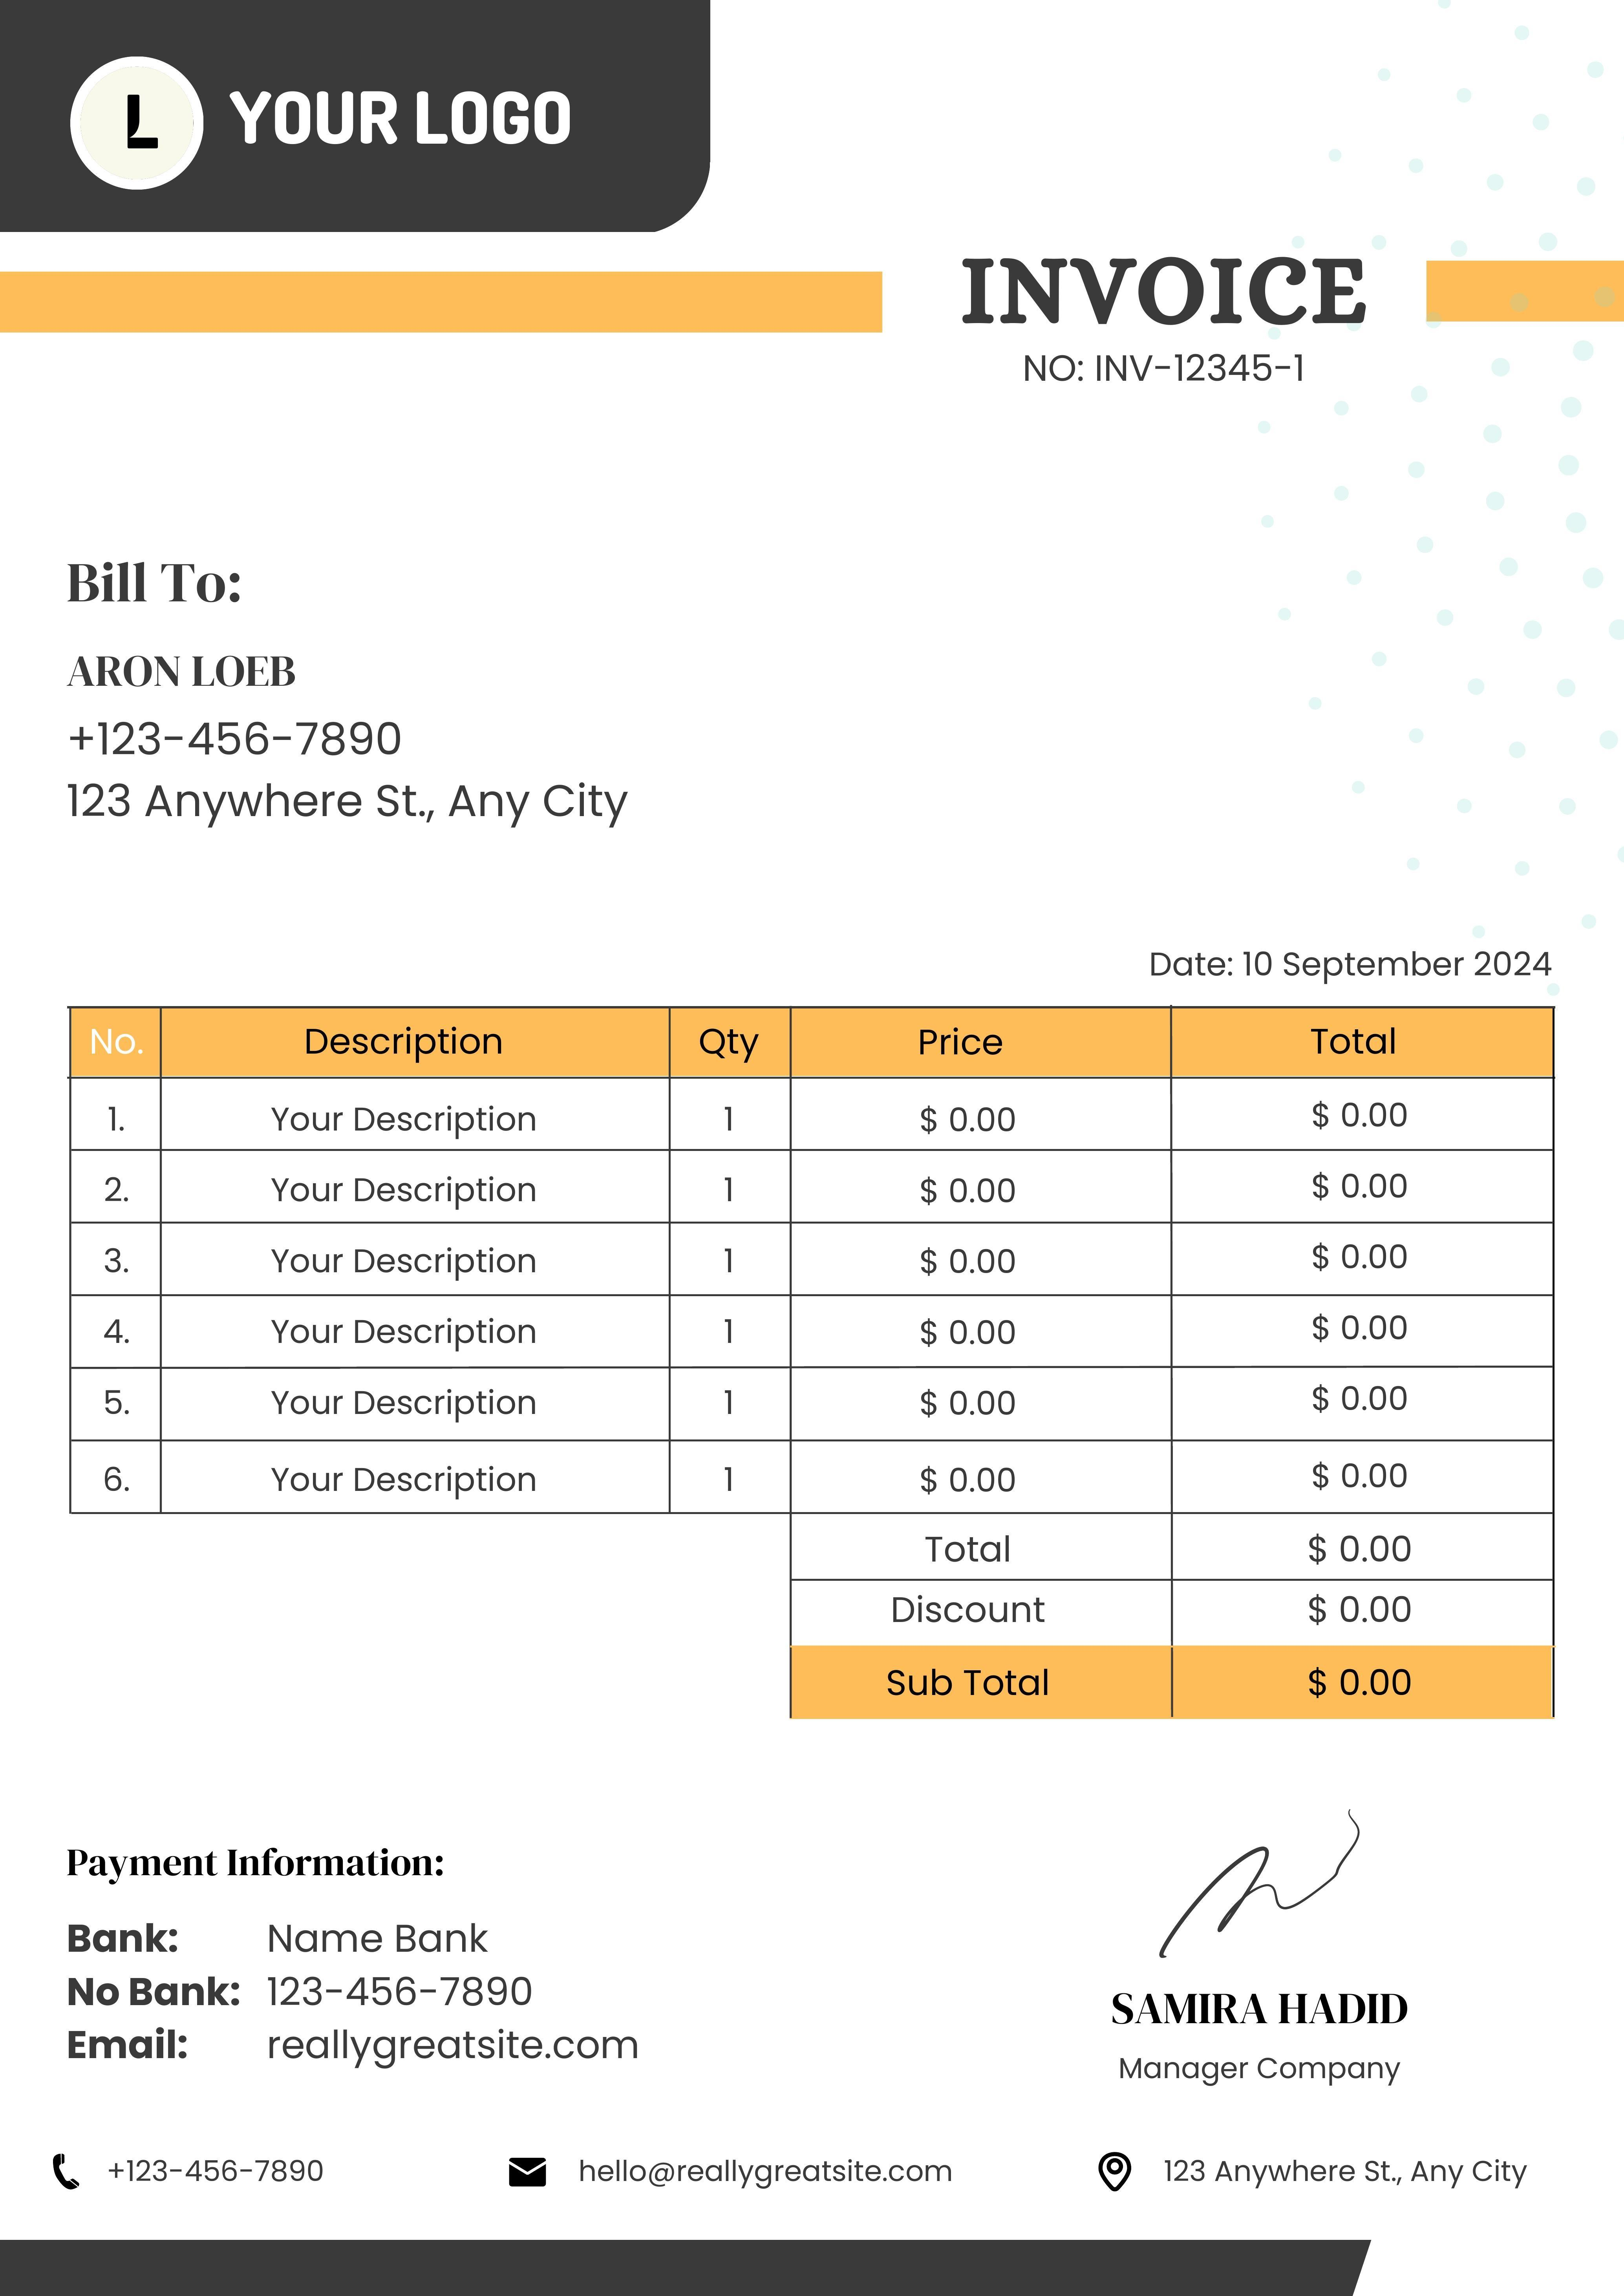ROI: (68, 1000, 1551, 1509), (55, 542, 692, 841), (53, 1834, 677, 2089), (786, 1517, 1557, 1721), (1090, 1969, 1442, 2109), (1008, 334, 1328, 396)
